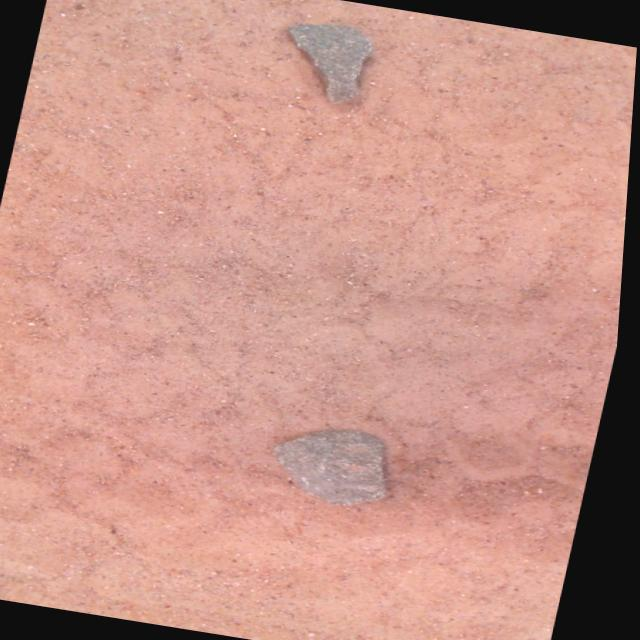rock: (280, 429, 392, 505), (288, 24, 372, 103)
